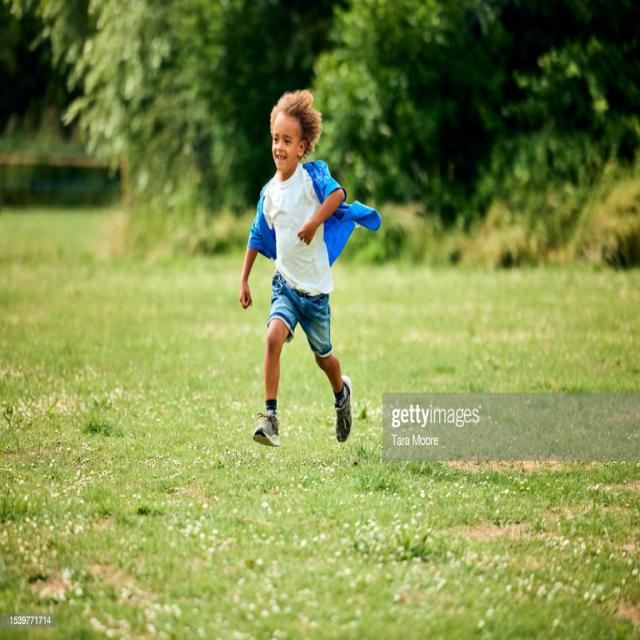Person: (238, 89, 380, 448)
